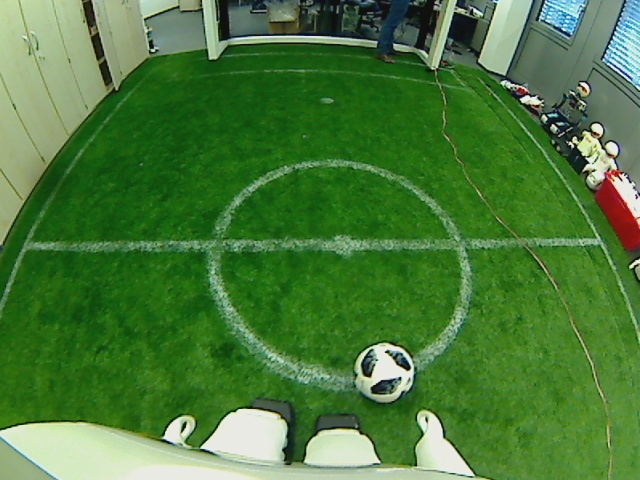ball: (352, 342, 415, 403)
